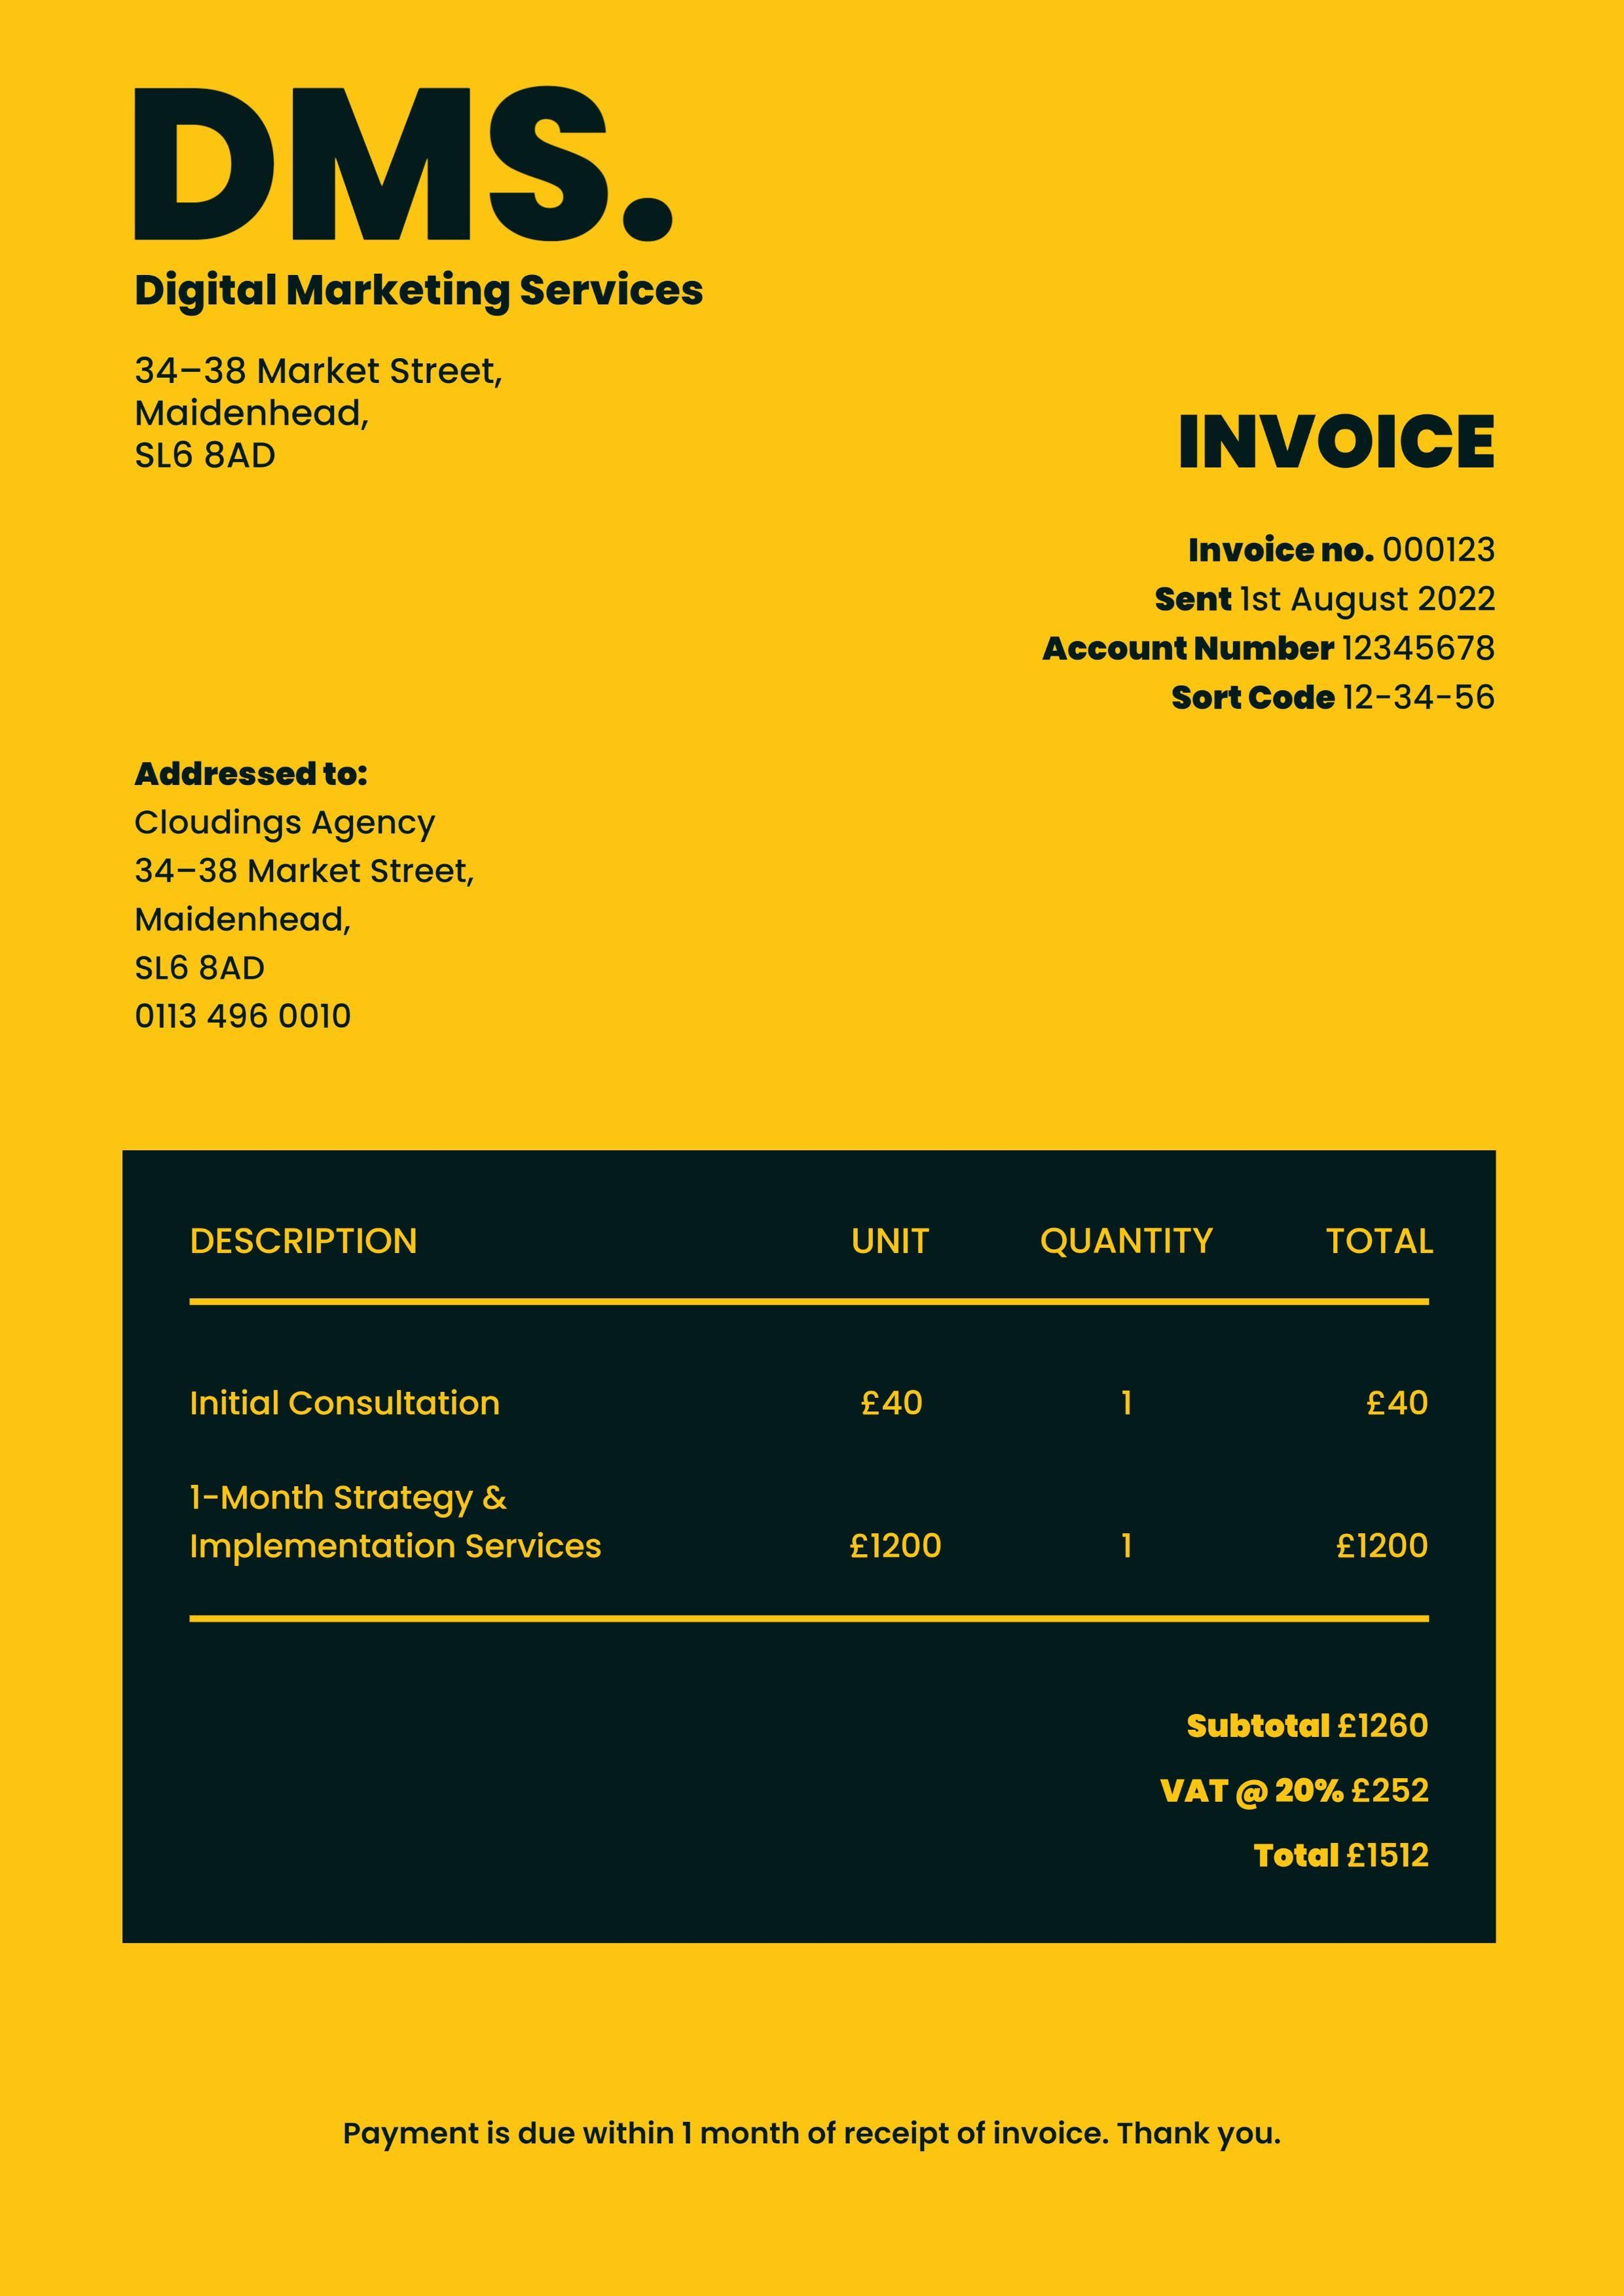ROI: (179, 1219, 1455, 1593), (93, 47, 743, 518), (134, 731, 497, 1043), (1028, 518, 1512, 752), (1144, 1688, 1439, 1883)
